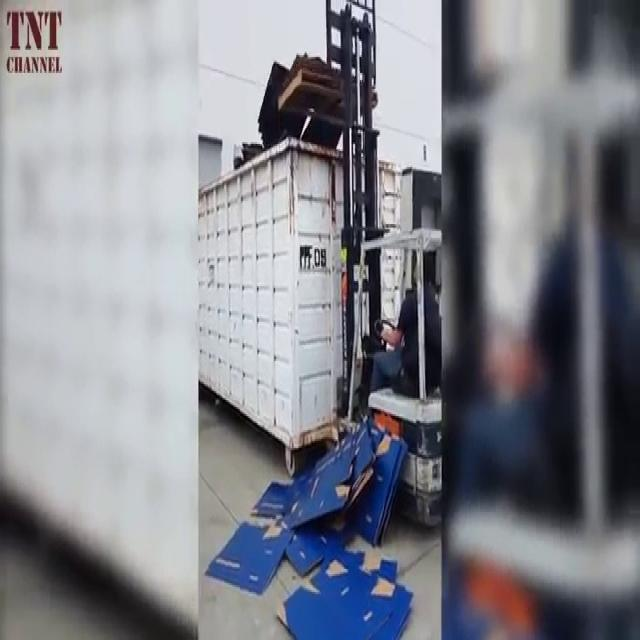Chariot elevateur: (340, 208, 445, 533)
